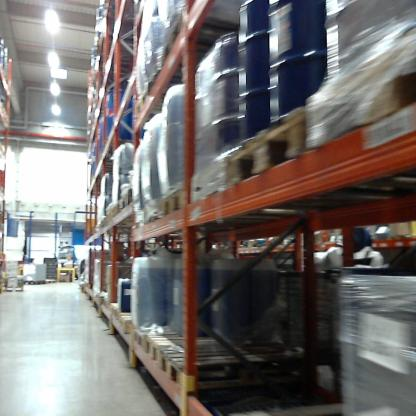pallet: (188, 153, 394, 222), (304, 27, 415, 148), (155, 14, 270, 91), (227, 107, 316, 191), (160, 348, 295, 396), (125, 79, 241, 134), (147, 335, 220, 376), (163, 189, 218, 229), (132, 327, 188, 352), (141, 199, 165, 233), (119, 187, 140, 212), (121, 317, 146, 336), (116, 301, 136, 323), (4, 285, 25, 294), (44, 278, 57, 287), (33, 278, 45, 286), (23, 279, 33, 287)
